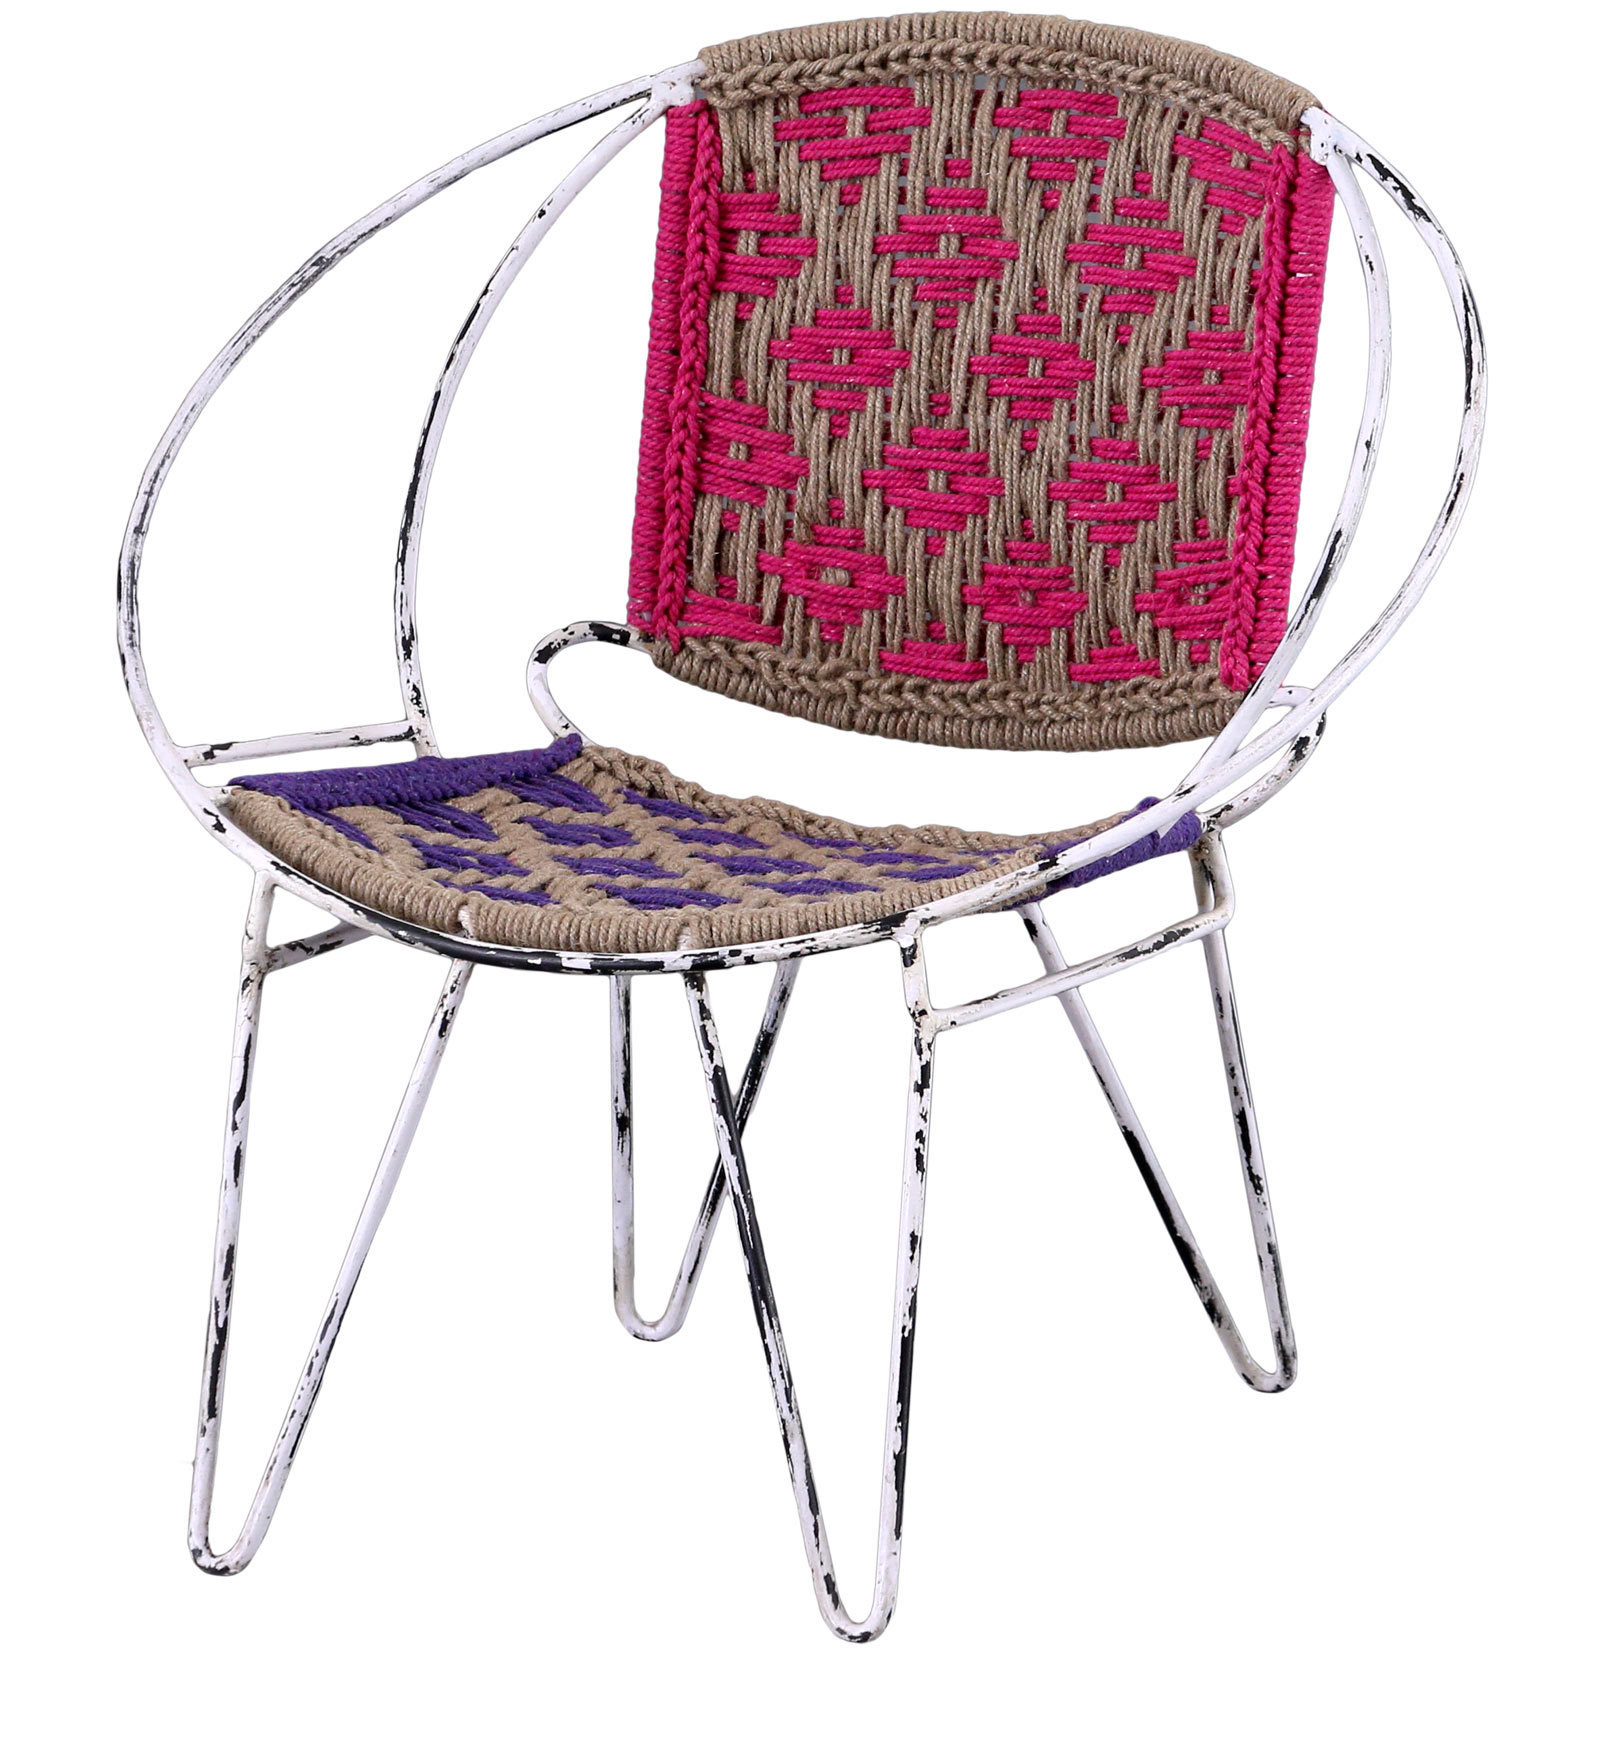Ambatovy Outdoor Chair in Multicolour by Bohemiana: (46, 17, 1511, 1712)
